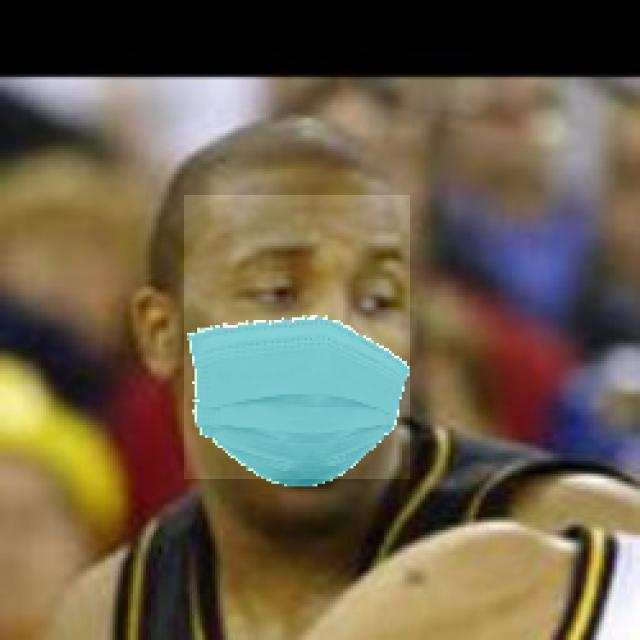surgical: (184, 195, 410, 479)
